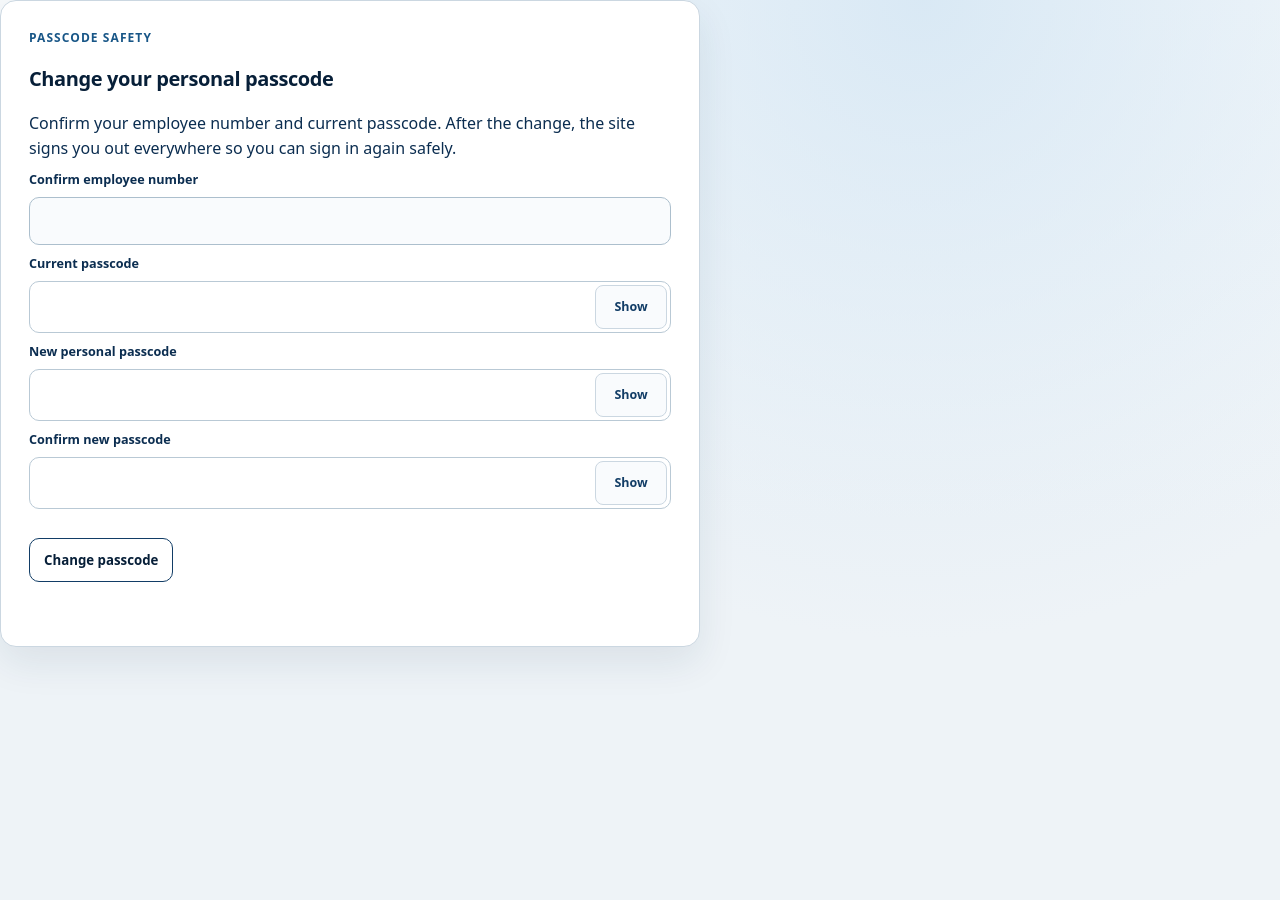
Test: PersonalPasscodeChangeForm › does not send mismatched new passcodes
The image size is (1280, 900).
Type "EMP-42" into the field labelled "Confirm employee number" at point(350, 221), box [29,197,671,245]
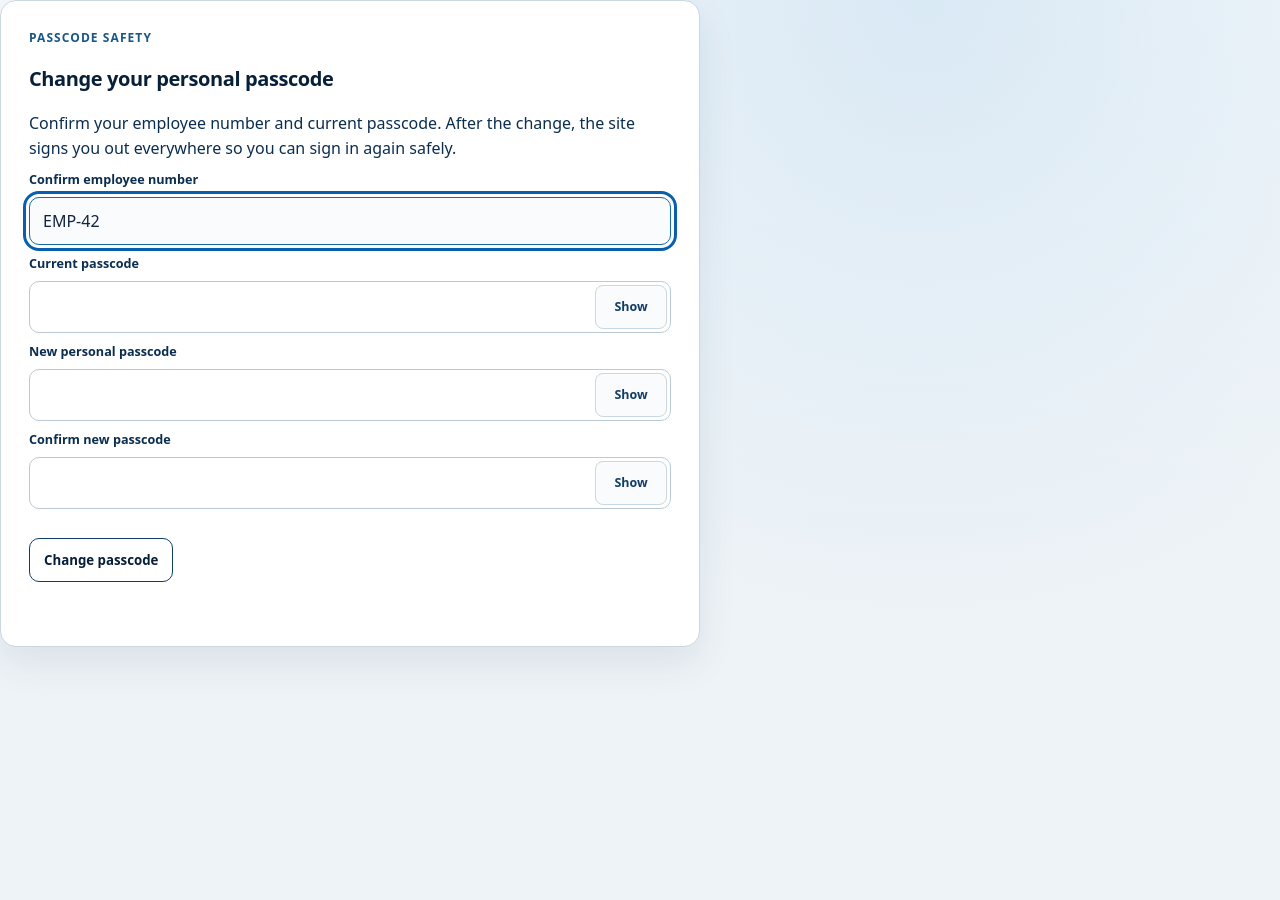
Type "Current9!" into the password field labelled "Current passcode" at point(350, 307), box [29,281,671,333]
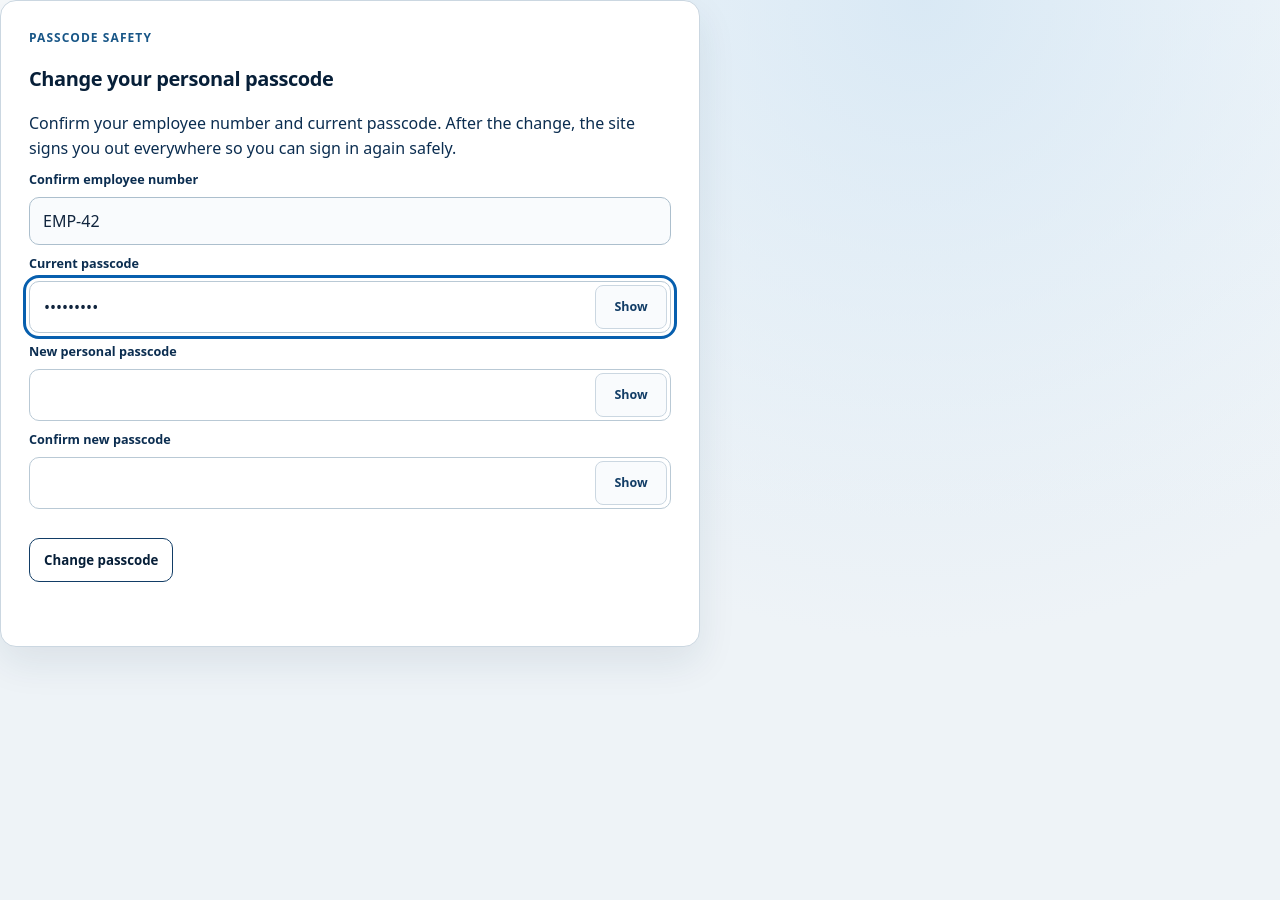
Type "Cedar7!9" into the password field labelled "New personal passcode" at point(350, 395), box [29,369,671,421]
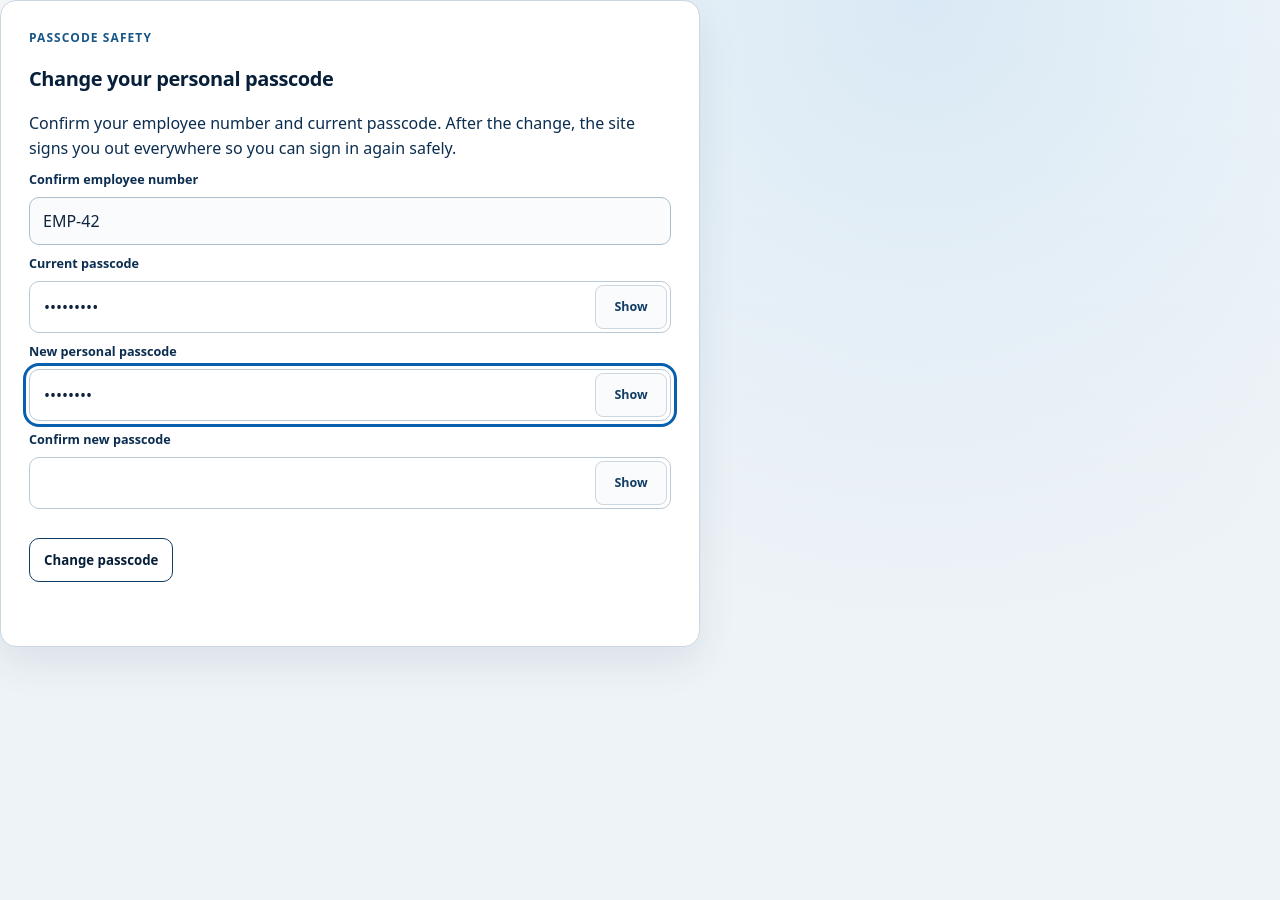
Type "Maple8!2" into the password field labelled "Confirm new passcode" at point(350, 483), box [29,457,671,509]
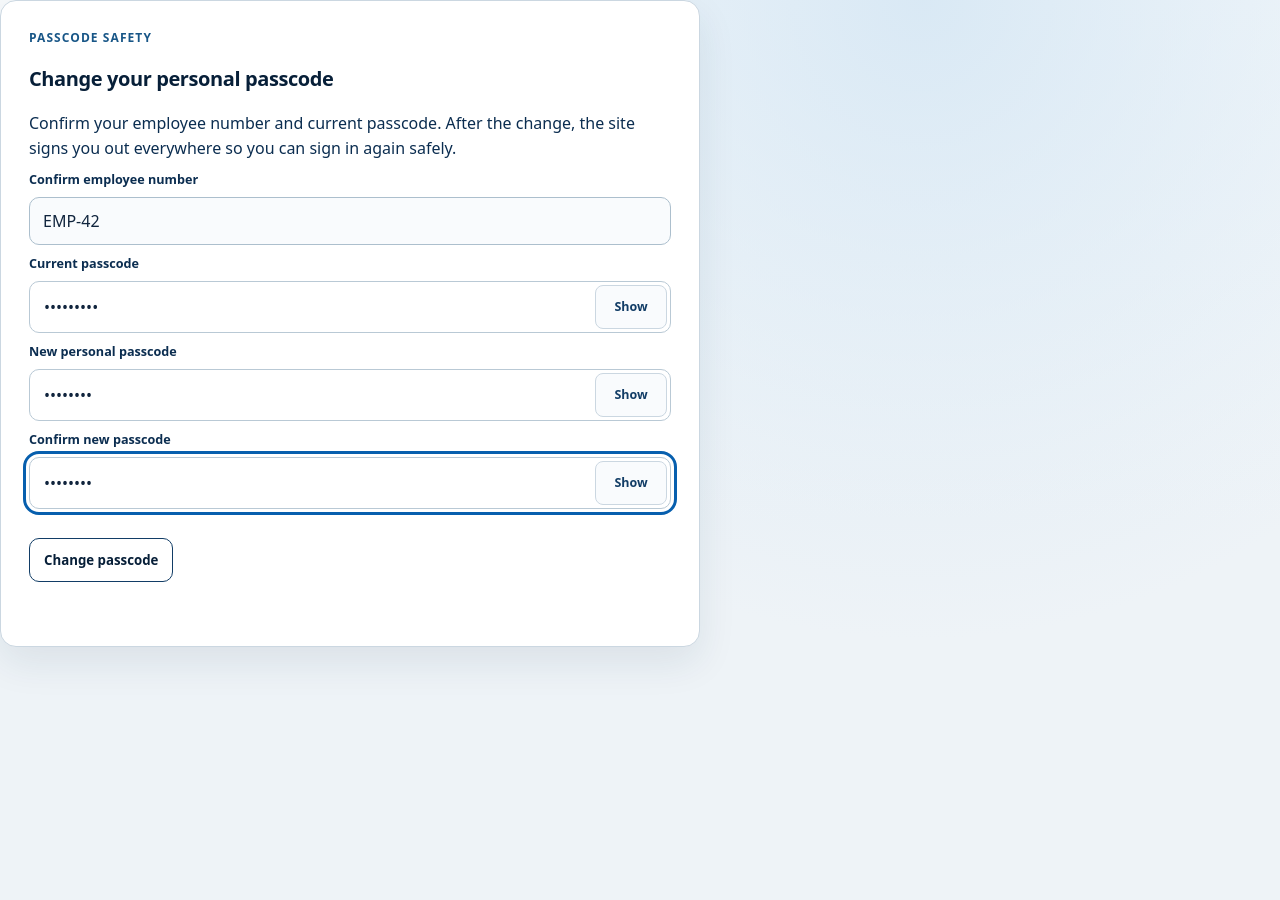
Click the button "Change passcode" at point(101, 560), box [29,538,174,582]
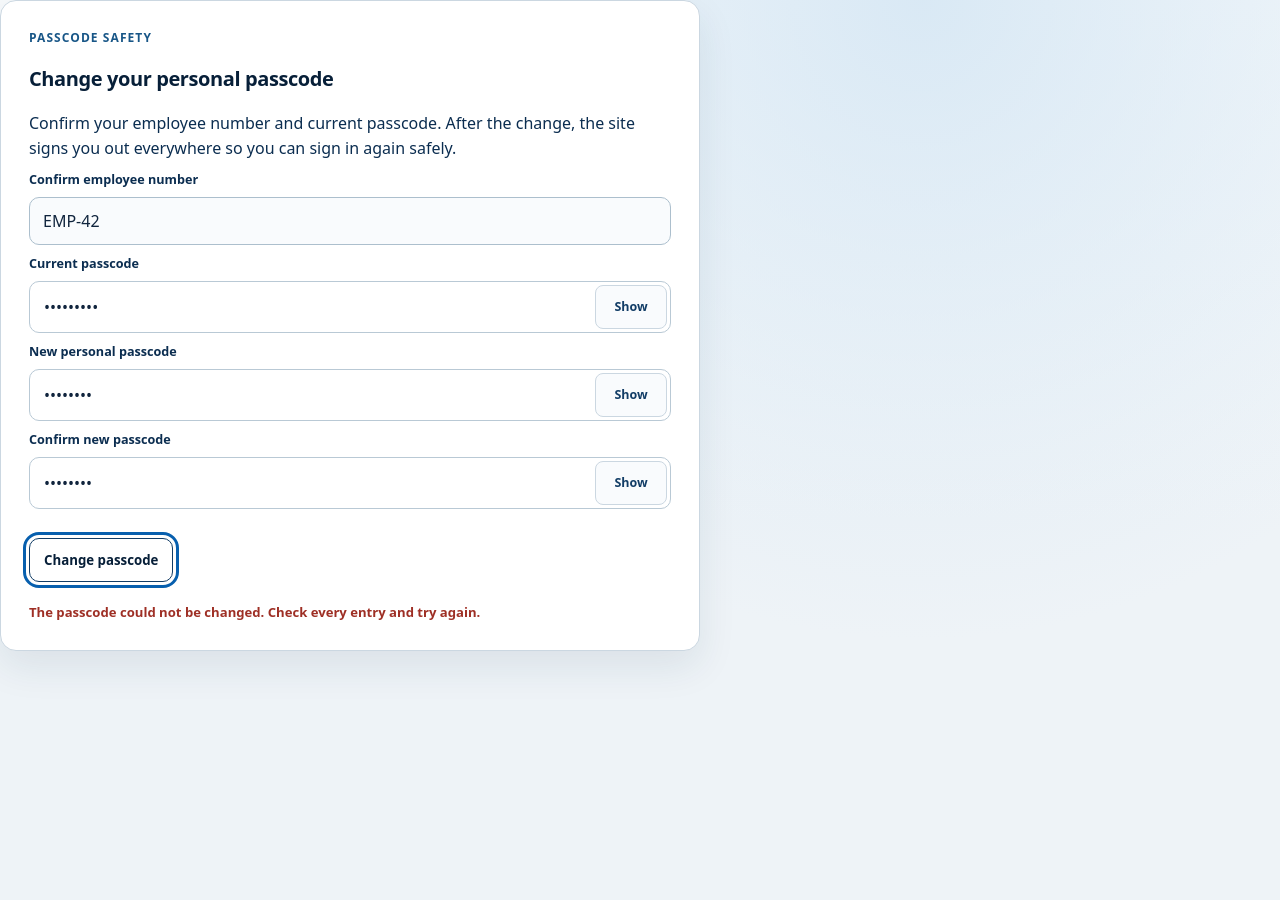
Result: the text "could not be changed" is shown at [29,603,480,621]
